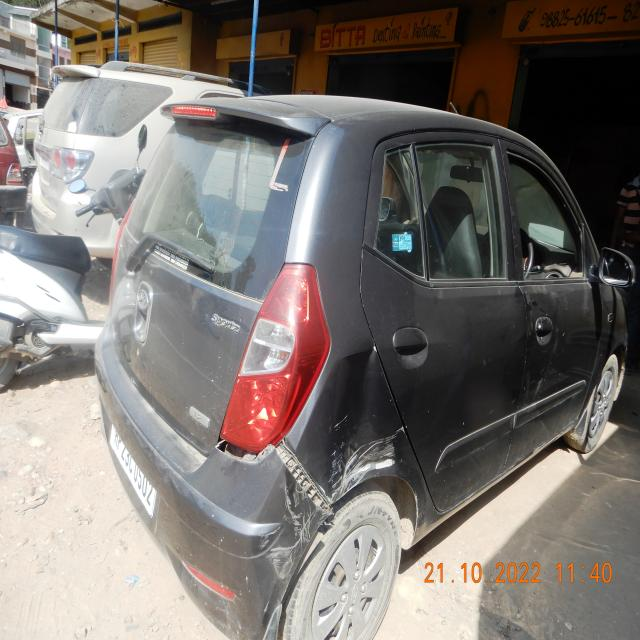damage: (220, 435, 335, 584), (331, 337, 383, 444), (333, 425, 404, 502), (535, 379, 544, 396)
